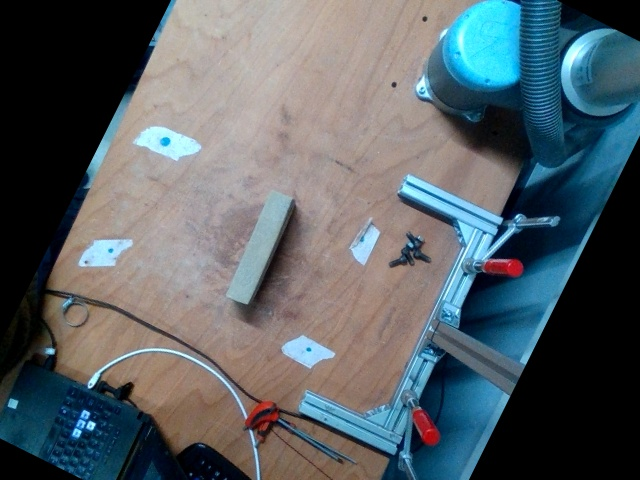brick-side: (226, 193, 288, 302)
